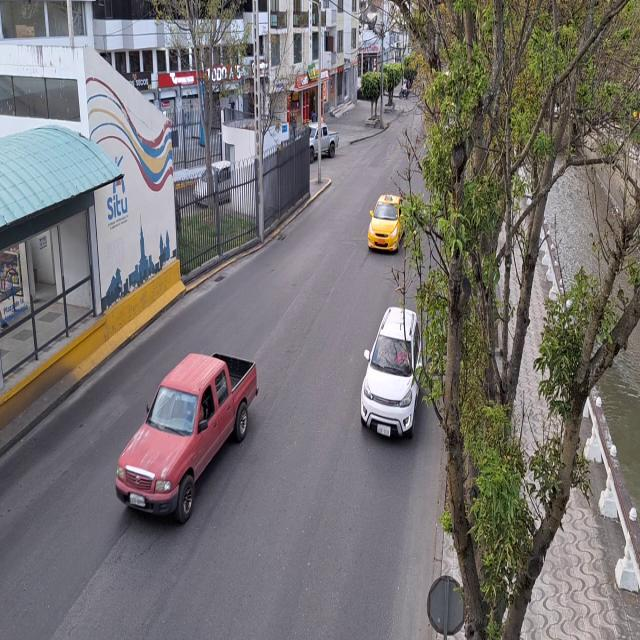CMT: (111, 357, 252, 528)
